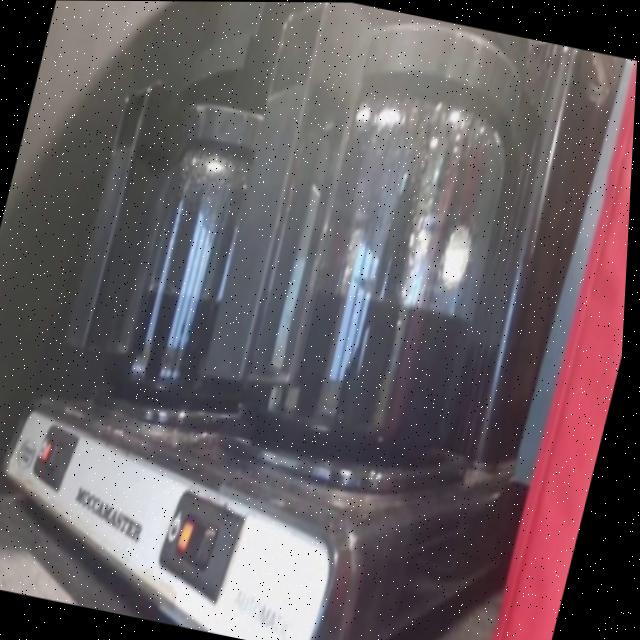coffee: (240, 109, 510, 468), (105, 165, 290, 419)
